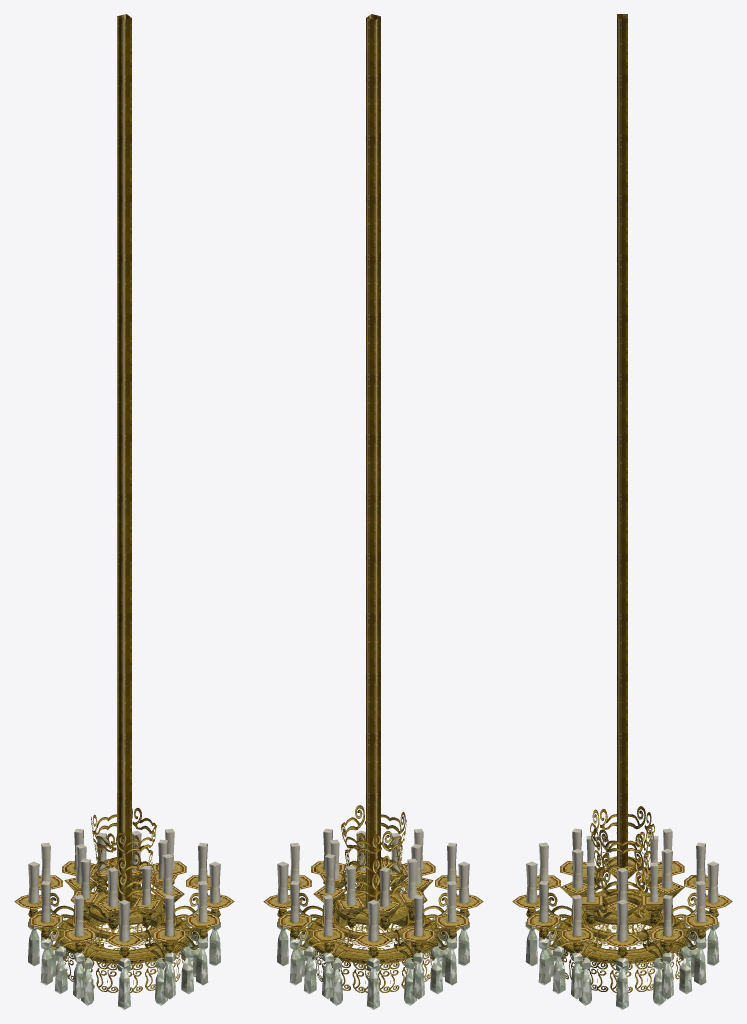
File: lv9_chandelier.dae
The picture shows the model from 3 angles, left to right: view 1: azimuth 30°, elevation 25°; view 2: azimuth 150°, elevation 25°; view 3: azimuth 270°, elevation 25°; orthographic projection.
Visible parts, largest first — view 1: Shape 1, Shape 0, Shape 2, Shape 3; view 2: Shape 1, Shape 0, Shape 3, Shape 2; view 3: Shape 1, Shape 0, Shape 3, Shape 2.
Boxes of the visible parts, box(x1,y1,x2,y2) form: Shape 1: box(14, 14, 234, 964); Shape 0: box(28, 828, 220, 947); Shape 2: box(28, 891, 220, 1009); Shape 3: box(38, 808, 210, 992); Shape 1: box(263, 14, 483, 964); Shape 0: box(277, 828, 469, 947); Shape 3: box(287, 805, 459, 992); Shape 2: box(277, 891, 469, 1009); Shape 1: box(512, 14, 732, 963); Shape 0: box(526, 825, 718, 948); Shape 3: box(536, 806, 708, 992); Shape 2: box(525, 884, 719, 1009).
Bounding box in the file's own units: 674 × 3240 × 674.
4 materials, 4 textured.
